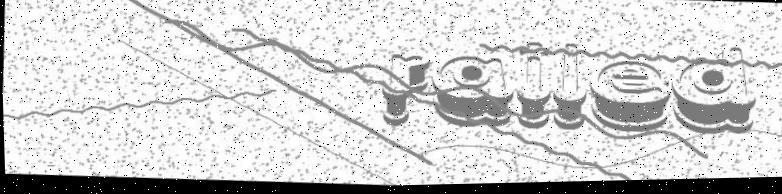a: (425, 51, 521, 137)
d: (665, 42, 762, 151)
e: (582, 56, 678, 141)
i: (512, 40, 553, 150), (548, 34, 592, 136)
r: (376, 51, 430, 132)
